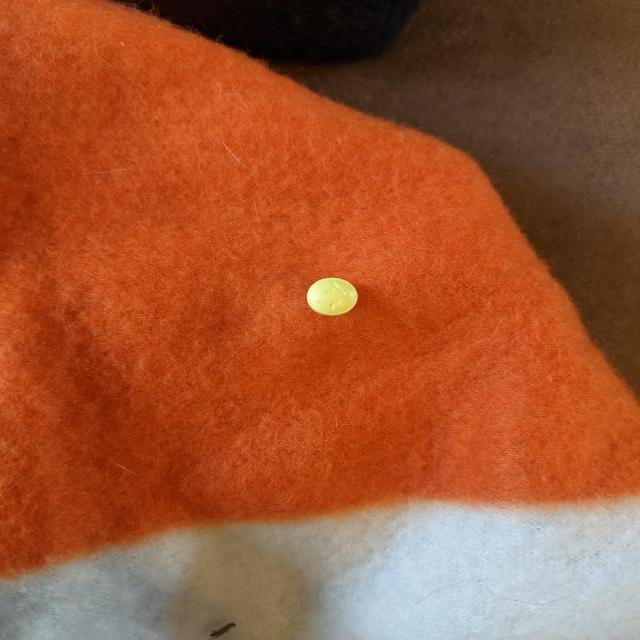non-organic waste: (306, 277, 358, 316)
